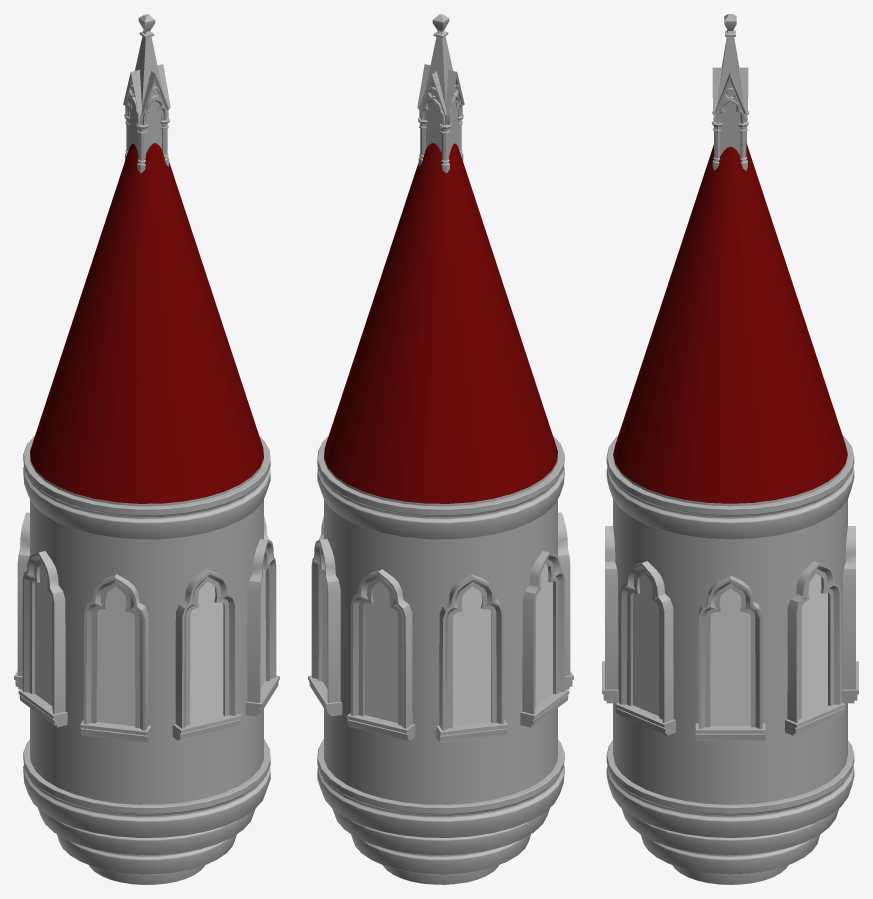
File: turret_003.glb
3 views of the same model, side by side, from view 1: azimuth 30°, elevation 25°; view 2: azimuth 150°, elevation 25°; view 3: azimuth 270°, elevation 25° (orthographic).
Visible parts, largest first — view 1: turret_003; view 2: turret_003; view 3: turret_003.
Part boxes in pixels (x1=…): turret_003: x1=14, y1=14, x2=279, y2=884; turret_003: x1=308, y1=14, x2=573, y2=884; turret_003: x1=602, y1=14, x2=858, y2=884.
Size of the model in its own units: 0.586 by 2.13 by 0.586.
